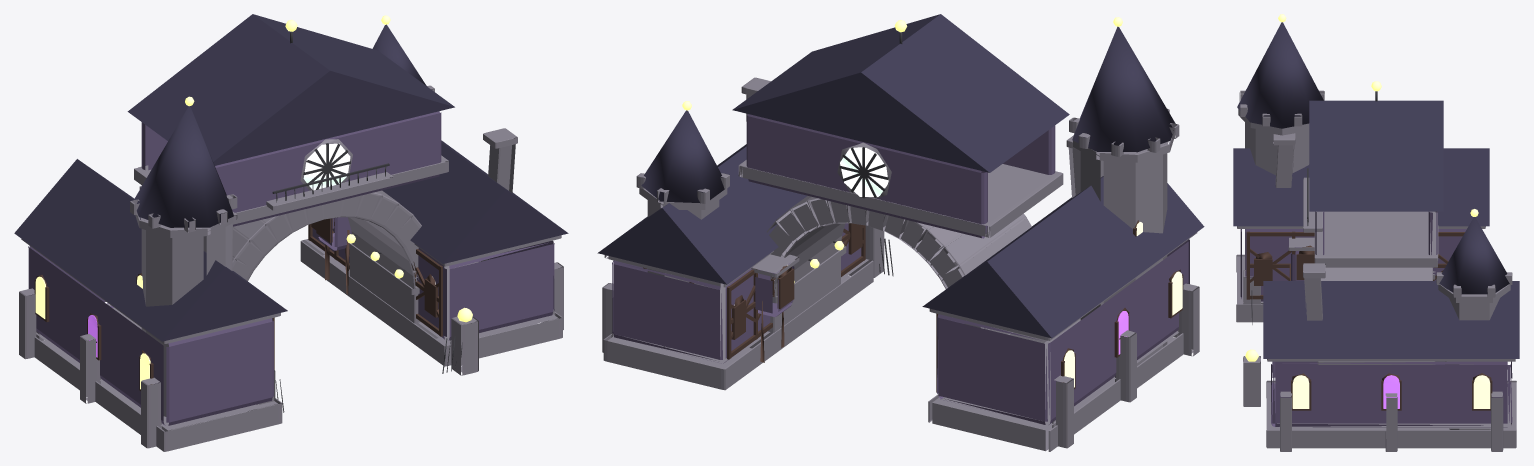
Rendered from mansion.glb.
3 renders of one model, left to right at view 1: azimuth 30°, elevation 25°; view 2: azimuth 150°, elevation 25°; view 3: azimuth 270°, elevation 25°, orthographic. The views are drawn at different scales.
Visible parts, largest first — view 1: M_RoofPaint, M_Stone, M_WallPaint, M_WoodTrim, M_Iron, M_GhostWindow, M_WindowGlow, M_Candle; view 2: M_RoofPaint, M_Stone, M_WallPaint, M_WoodTrim, M_GhostWindow, M_Iron, M_WindowGlow; view 3: M_RoofPaint, M_Stone, M_WallPaint, M_WoodTrim, M_WindowGlow, M_Portrait, M_Candle.
Boxes of the visible parts, bbox=[...] form: M_RoofPaint: bbox=[14, 14, 568, 341]; M_Stone: bbox=[19, 85, 563, 451]; M_WallPaint: bbox=[28, 111, 554, 425]; M_WoodTrim: bbox=[34, 218, 442, 390]; M_Iron: bbox=[272, 31, 462, 412]; M_GhostWindow: bbox=[303, 143, 435, 284]; M_WindowGlow: bbox=[35, 275, 150, 389]; M_Candle: bbox=[185, 15, 472, 322]; M_RoofPaint: bbox=[597, 14, 1204, 338]; M_Stone: bbox=[602, 77, 1199, 451]; M_WallPaint: bbox=[612, 114, 1189, 424]; M_WoodTrim: bbox=[643, 220, 1183, 392]; M_GhostWindow: bbox=[734, 147, 888, 305]; M_Iron: bbox=[808, 32, 902, 276]; M_WindowGlow: bbox=[1064, 222, 1182, 387]; M_RoofPaint: bbox=[1233, 22, 1519, 358]; M_Stone: bbox=[1236, 90, 1516, 451]; M_WallPaint: bbox=[1240, 211, 1512, 427]; M_WoodTrim: bbox=[1246, 231, 1492, 410]; M_WindowGlow: bbox=[1292, 375, 1490, 408]; M_Portrait: bbox=[1383, 375, 1399, 408]; M_Candle: bbox=[1245, 14, 1478, 361].
Bounding box in the file's own units: 57.6 × 40.95 × 38.
